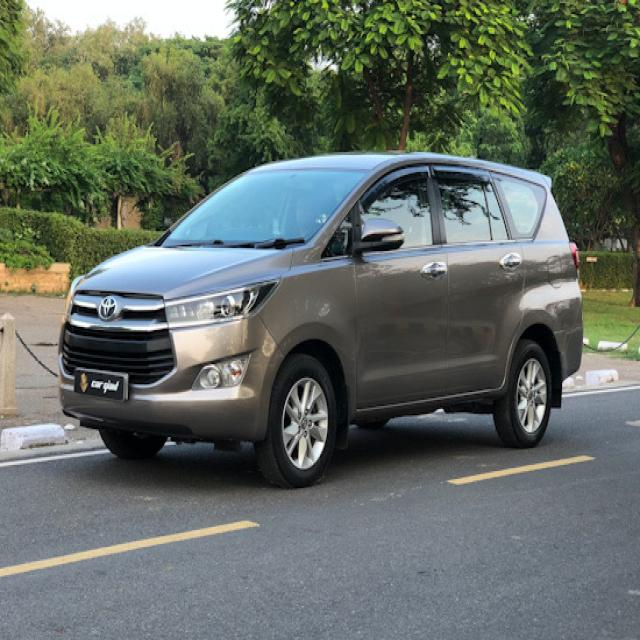light_vehicle: (56, 149, 585, 489)
